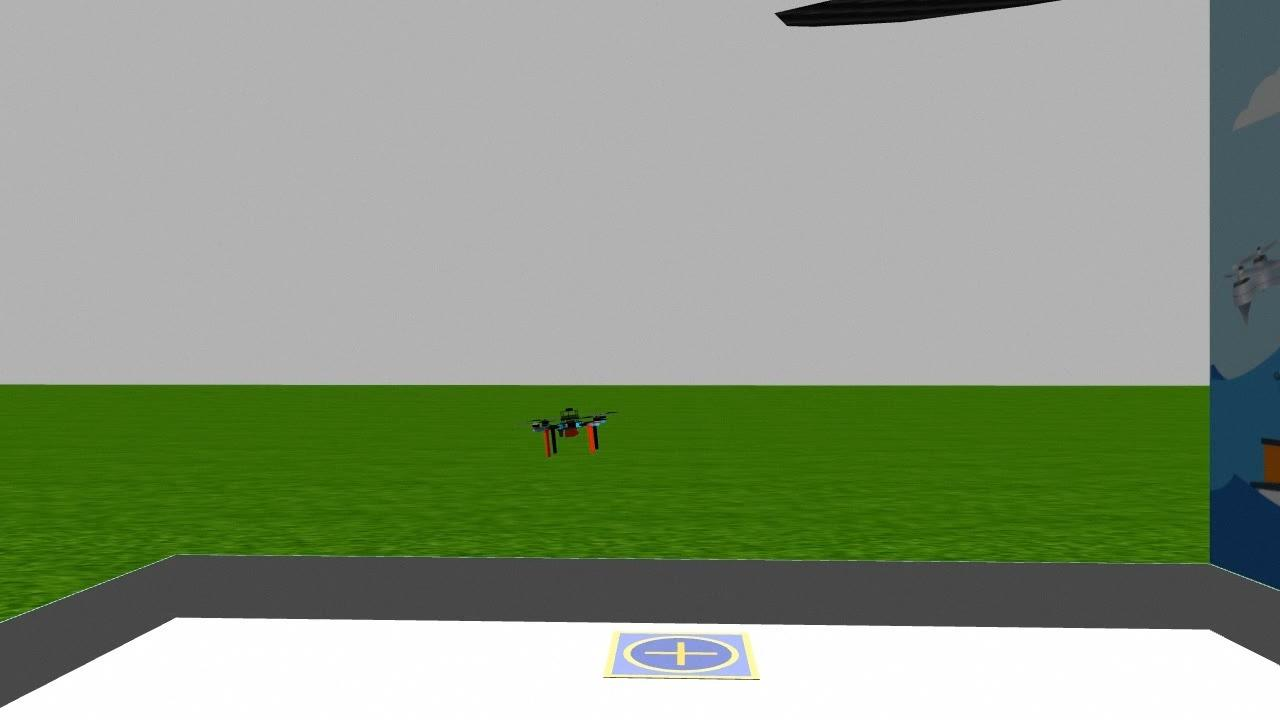UAV: (526, 401, 616, 461)
